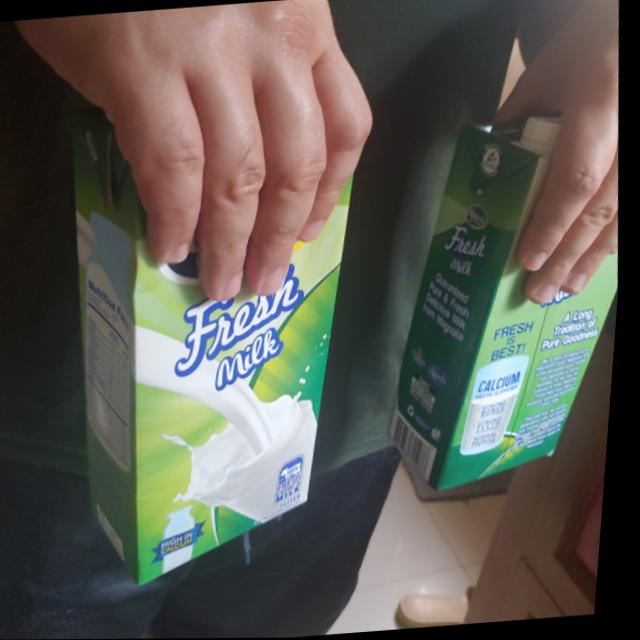milk: (34, 73, 388, 596), (374, 104, 634, 498)
